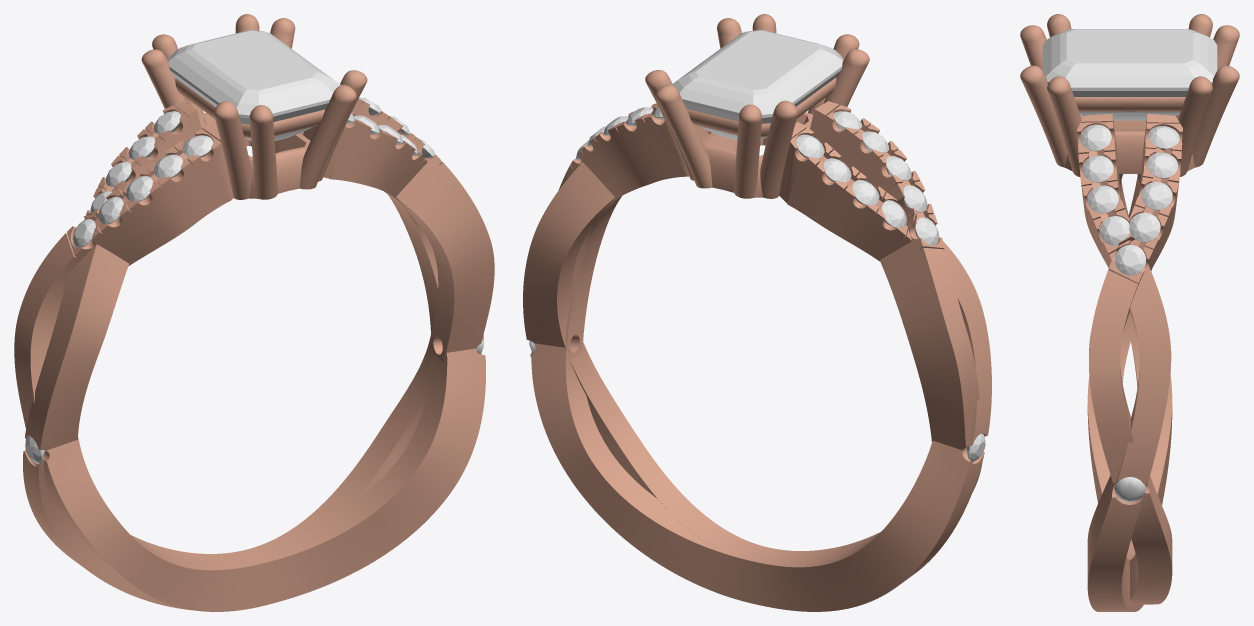
The model's file is diamond-emerald-rosegold-8prong-twist-sidestones.glb.
3 views of the same model, side by side, from view 1: azimuth 30°, elevation 25°; view 2: azimuth 150°, elevation 25°; view 3: azimuth 270°, elevation 25° (orthographic).
Parts seen in each view (by area): view 1: metal.001, stone; view 2: metal.001, stone; view 3: metal.001, stone, side.015, side.016, side.012, side.017, side.011, side.013, side.014, side.018, side.010, side.019.
Boxes of the visible parts, <box> form: metal.001: <box>14,14,494,611</box>; stone: <box>167,30,340,140</box>; metal.001: <box>523,14,991,611</box>; stone: <box>671,30,843,140</box>; metal.001: <box>1020,14,1239,611</box>; stone: <box>1042,29,1217,120</box>; side.015: <box>1115,245,1146,275</box>; side.016: <box>1129,212,1160,242</box>; side.012: <box>1087,185,1118,213</box>; side.017: <box>1141,182,1172,210</box>; side.011: <box>1099,216,1129,245</box>; side.013: <box>1082,155,1113,182</box>; side.014: <box>1080,124,1111,151</box>; side.018: <box>1147,152,1178,178</box>; side.010: <box>1114,477,1145,502</box>; side.019: <box>1148,126,1179,148</box>.
Size of the model in its own units: 19.97 by 22.74 by 8.4.
